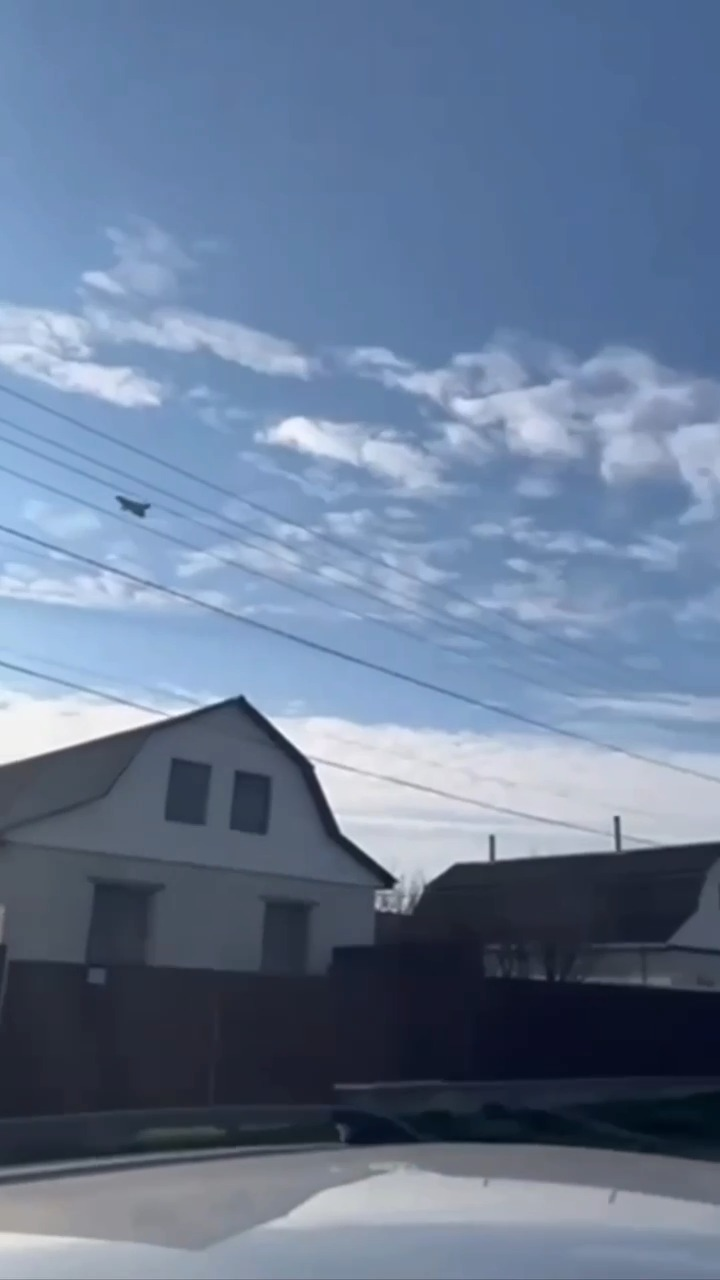shahed: (110, 488, 156, 524)
